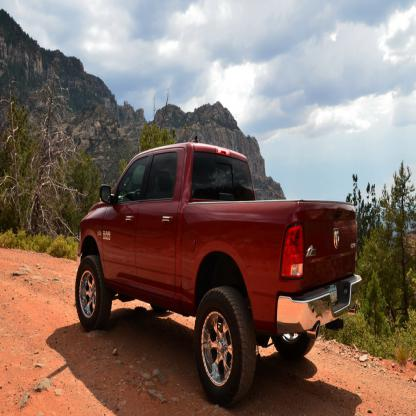Truck: (75, 135, 362, 408)
